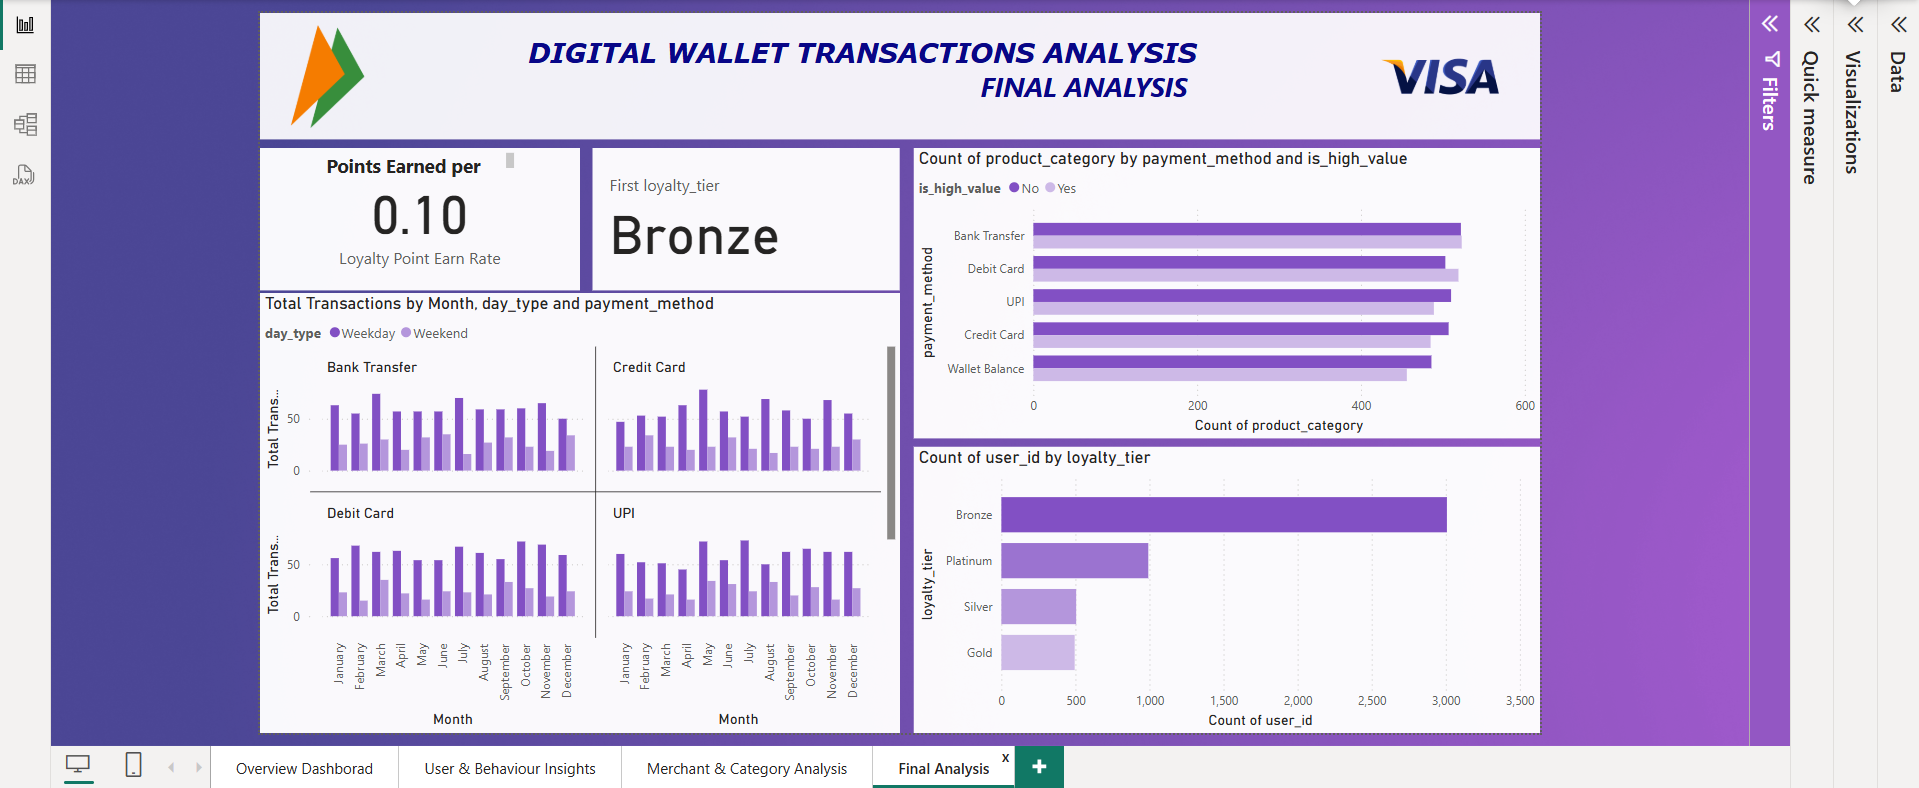

This screenshot's page, from the dashboard's own definition file:
{"tool":"powerbi","page":{"name":"Final Analysis","canvas":[1280,720],"ordinal":3},"visuals":[{"type":"barChart","fields":{"Y":["CountNonNull(Transactions.user_id)"],"Category":["Transactions.loyalty_tier"]},"box":[653.8,433.8,626.2,286.2],"z":0},{"type":"clusteredColumnChart","fields":{"Category":["Transactions.transaction_date.Variation.Date Hierarchy.Month"],"Series":["Transactions.day_type"],"Y":["Transactions.Total Transactions"],"Rows":["Transactions.payment_method"]},"box":[0,280,640,440],"z":1000},{"type":"cardVisual","fields":{"Data":["Min(Transactions.loyalty_tier)"]},"box":[332.5,135,307.5,142.5],"z":2000},{"type":"card","fields":{"Values":["Transactions.Loyalty Point Earn Rate"]},"box":[0,135,320,142.5],"z":3000},{"type":"textbox","box":[61.2,135,197.5,35],"z":4000},{"type":"clusteredBarChart","fields":{"Series":["Transactions.is_high_value"],"Category":["Transactions.payment_method"],"Y":["CountNonNull(Transactions.product_category)"]},"box":[653.8,135,626.2,290],"z":5000},{"type":"textbox","box":[0,0,1280,126.2],"z":6000},{"type":"image","box":[0,0,130,127.5],"z":7000},{"type":"image","box":[1090,0,180,127.5],"z":8000}]}

Visuals, with their boxes on the page's 1280x720 design canvas (x1, y1, x2, y2). These are canvas units, not pixel positions in the 1919x788 screenshot, which may show the page scaled, cropped or inside an application window:
barChart - CountNonNull(Transactions.user_id) x Transactions.loyalty_tier: (x1=654, y1=434, x2=1280, y2=720)
clusteredColumnChart - Transactions.transaction_date.Variation.Date Hierarchy.Month x Transactions.day_type: (x1=0, y1=280, x2=640, y2=720)
cardVisual - Min(Transactions.loyalty_tier): (x1=332, y1=135, x2=640, y2=278)
card - Transactions.Loyalty Point Earn Rate: (x1=0, y1=135, x2=320, y2=278)
textbox: (x1=61, y1=135, x2=259, y2=170)
clusteredBarChart - Transactions.is_high_value x Transactions.payment_method: (x1=654, y1=135, x2=1280, y2=425)
textbox: (x1=0, y1=0, x2=1280, y2=126)
image: (x1=0, y1=0, x2=130, y2=128)
image: (x1=1090, y1=0, x2=1270, y2=128)
